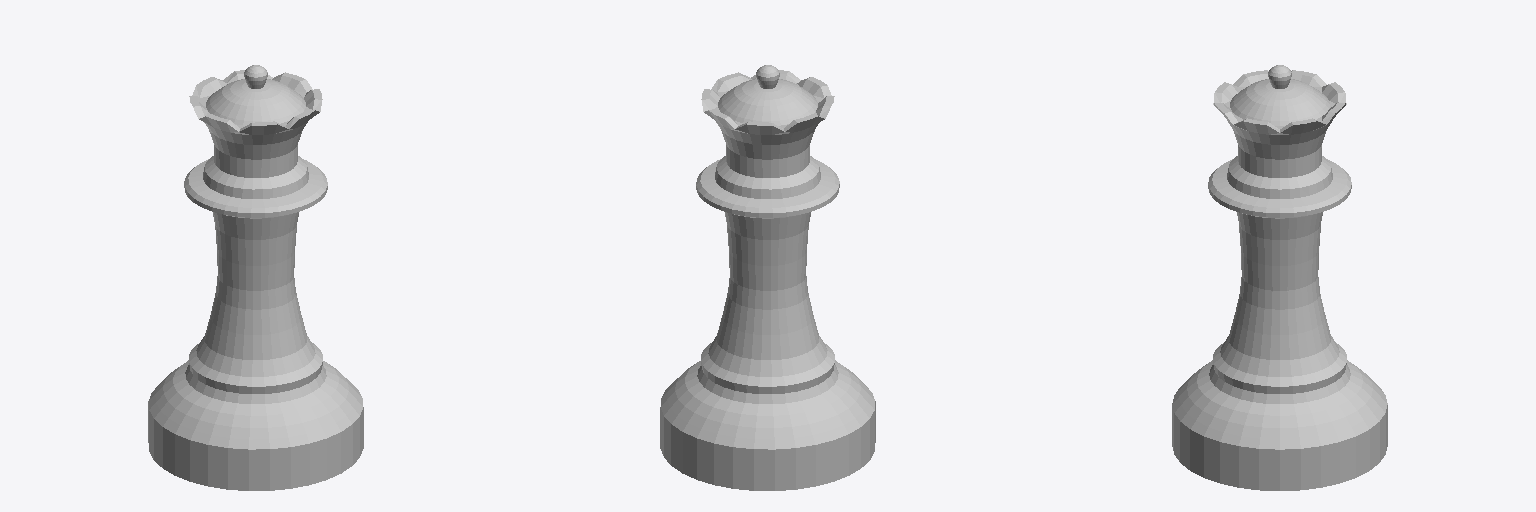
Rendered from queen.obj.
The picture shows the model from 3 angles: view 1: azimuth 30°, elevation 25°; view 2: azimuth 150°, elevation 25°; view 3: azimuth 270°, elevation 25°; orthographic projection.
Visible parts, largest first — view 1: queen; view 2: queen; view 3: queen.
Part boxes in pixels (bbox=[...]): queen: bbox=[148, 65, 363, 490]; queen: bbox=[660, 65, 875, 490]; queen: bbox=[1172, 65, 1387, 490].
Size of the model in its own units: 0.7312 by 1.42 by 0.7312.